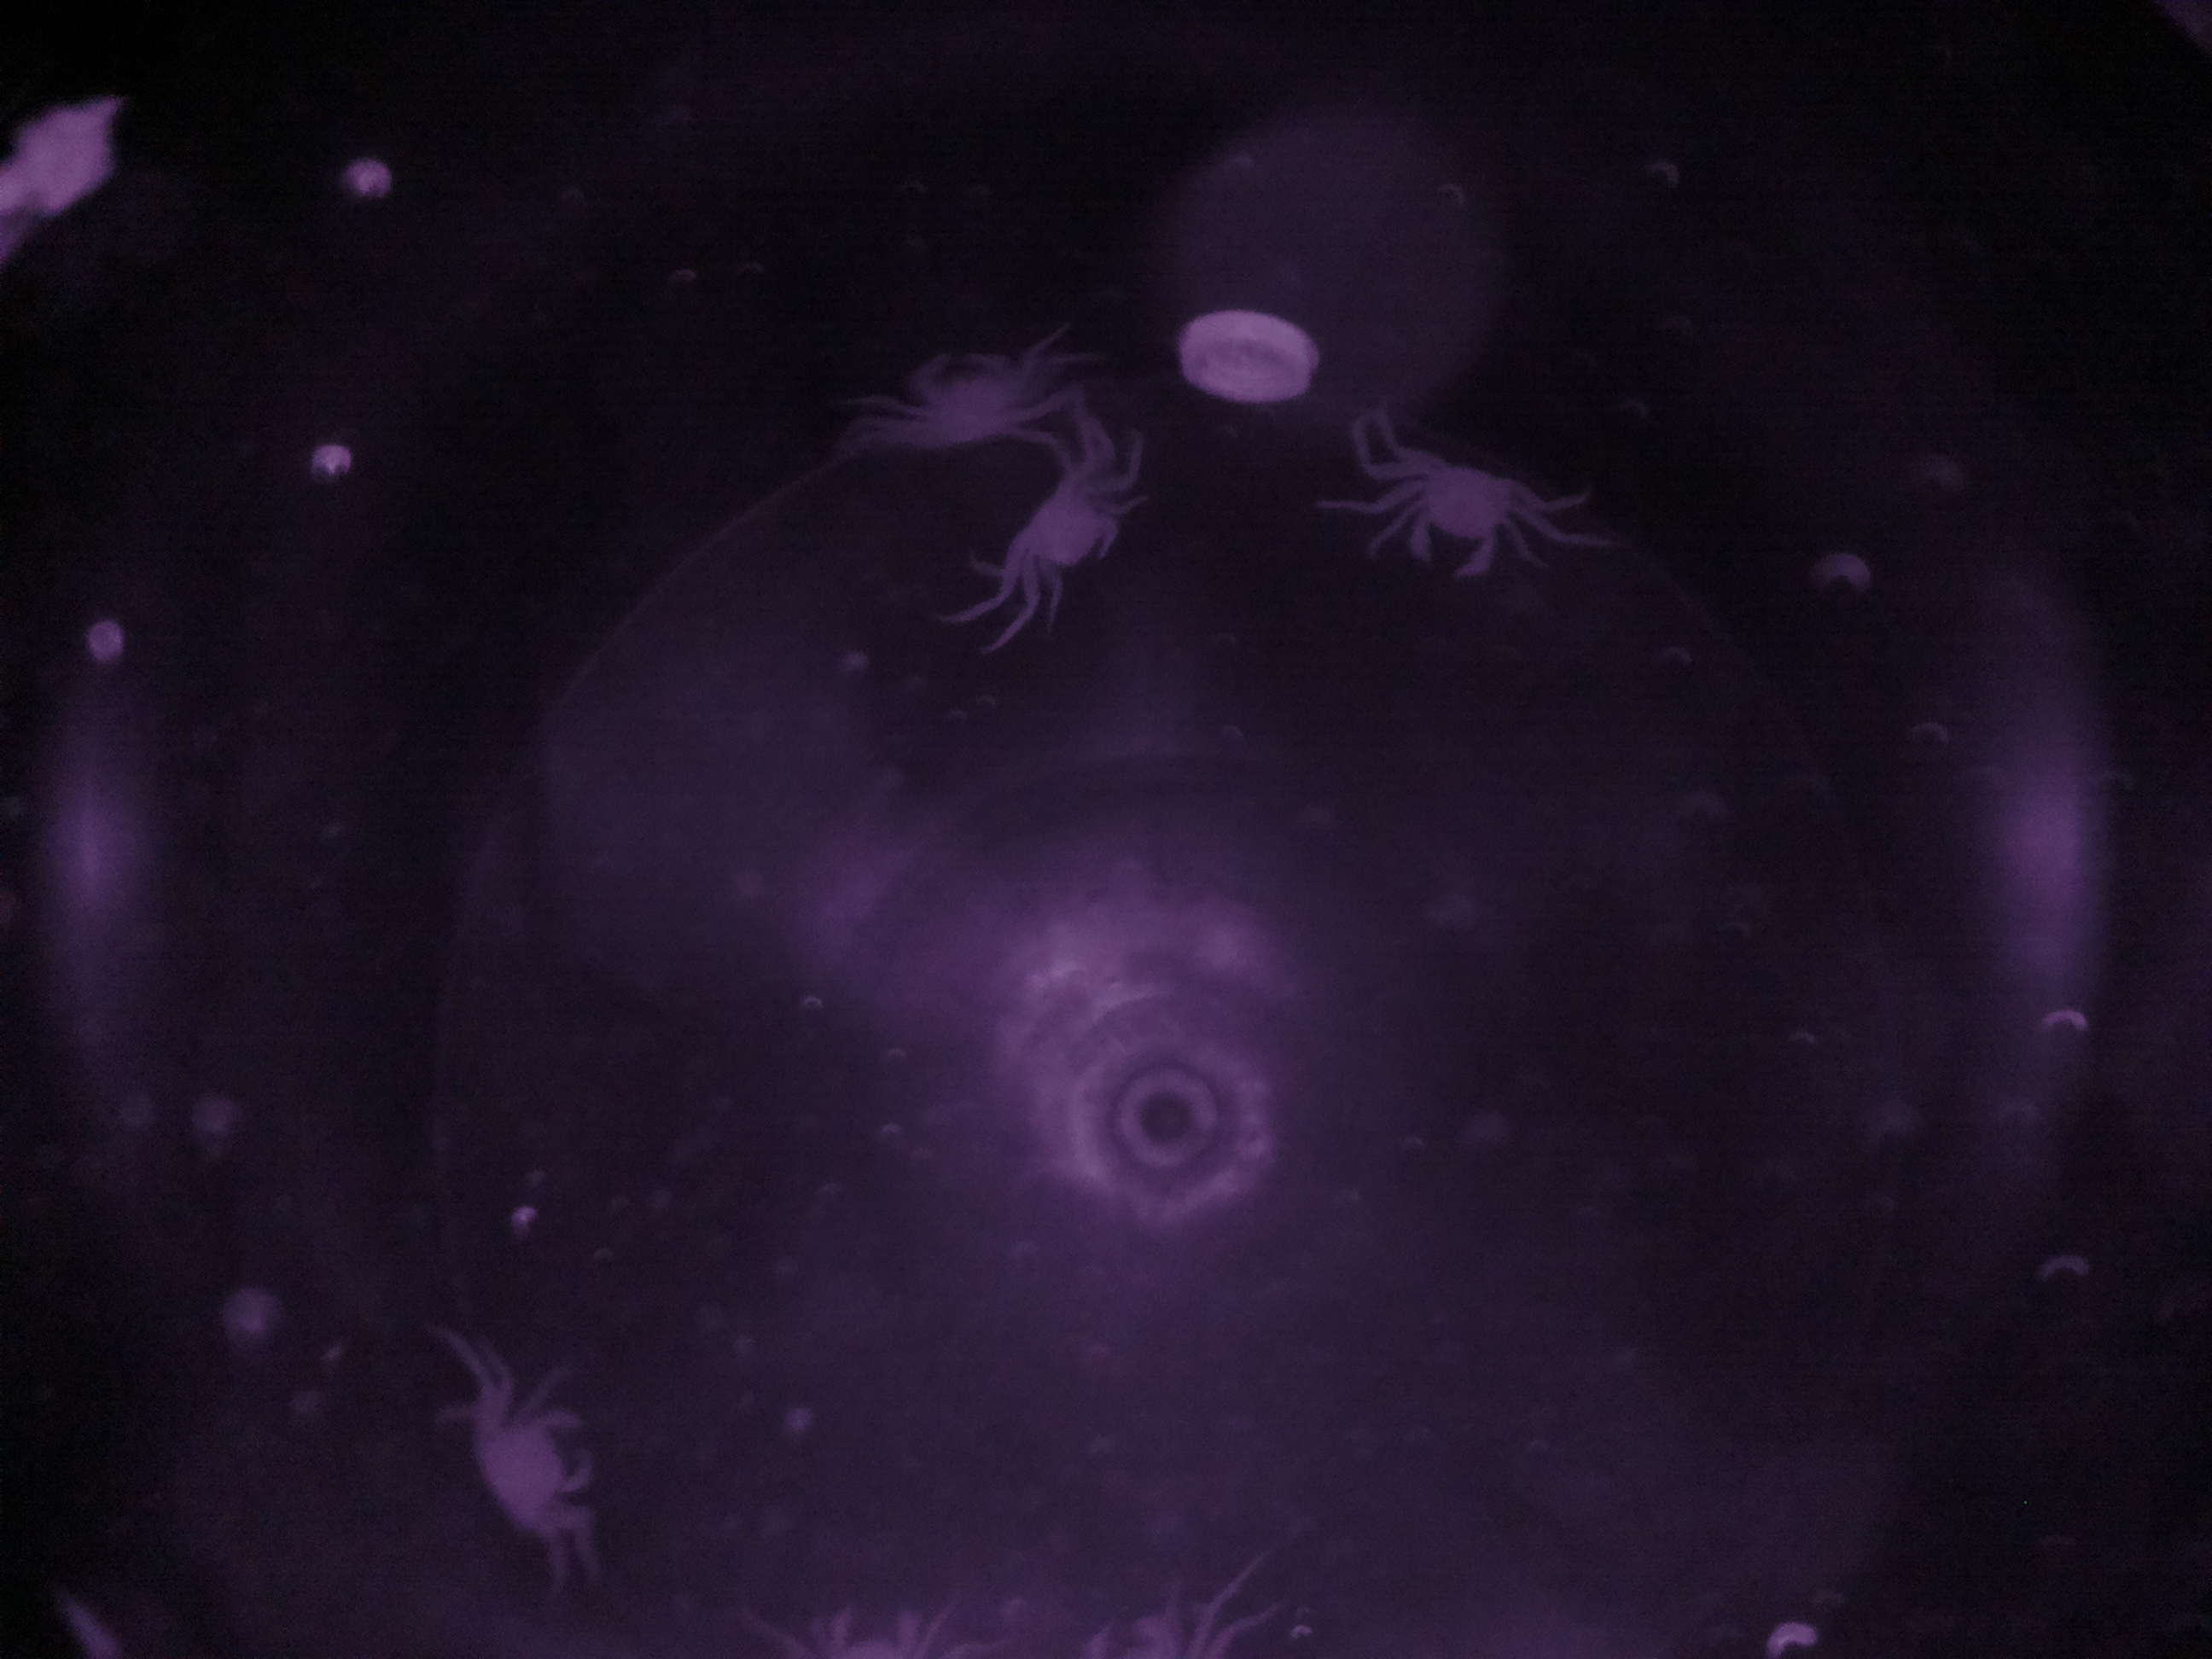Crab: (1360, 427, 1583, 592), (982, 437, 1157, 627)
